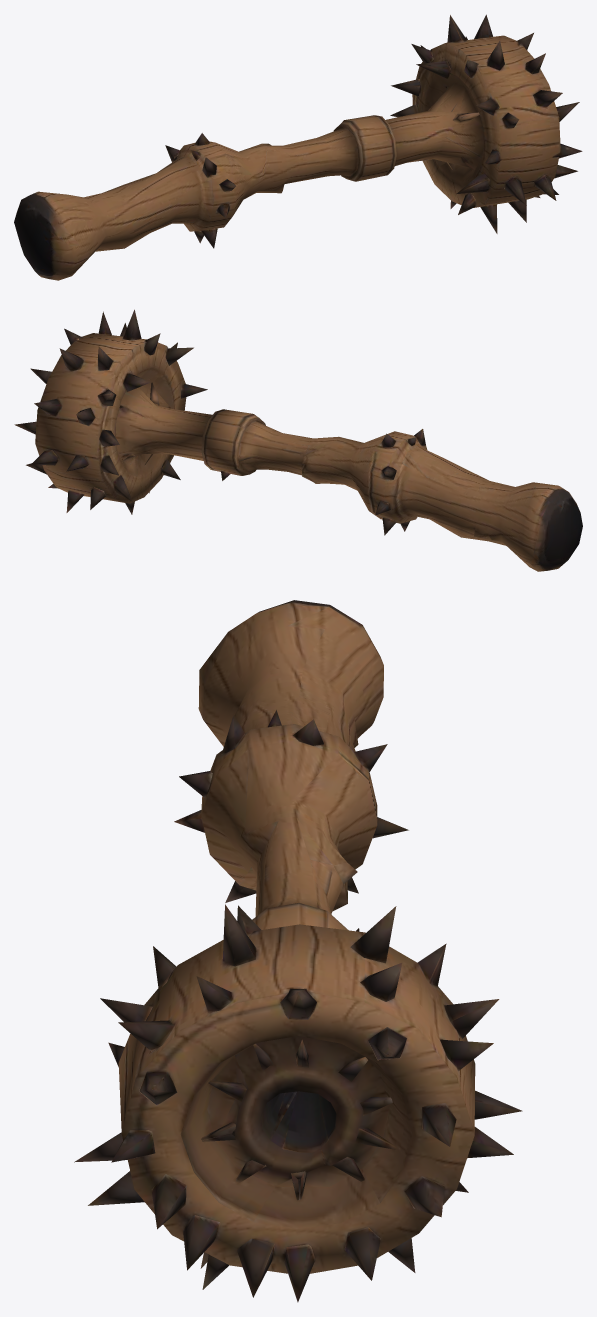
File: wpn_spikeclub.glb
3 renders of one model, top to bottom at view 1: azimuth 30°, elevation 25°; view 2: azimuth 150°, elevation 25°; view 3: azimuth 270°, elevation 25°, orthographic. The views are drawn at different scales.
Size of the model in its own units: 0.9541 by 0.3291 by 0.3584.
1 material, 1 textured.
